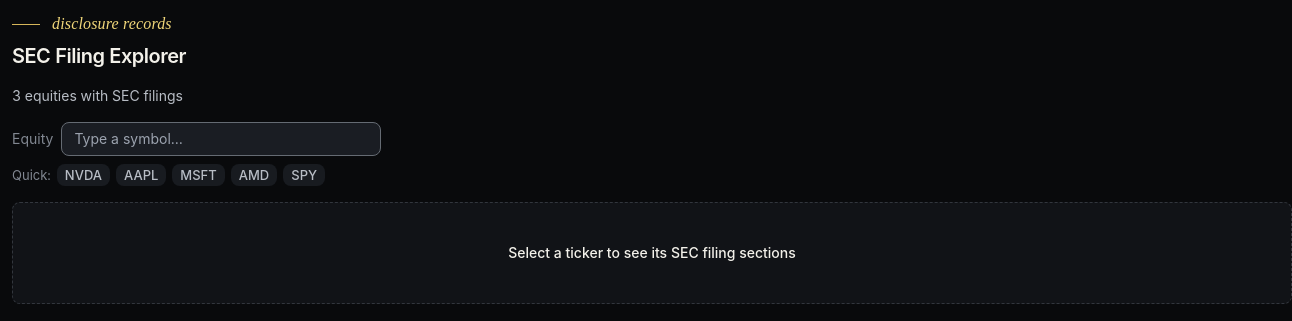
it: SecFilingExplorer › filters tickers on typing
Expected: the text "3 equities with SEC filings" is shown, [12,87,183,104]
Type "AA" into the dropdown at (221, 139), box [62,123,380,155]
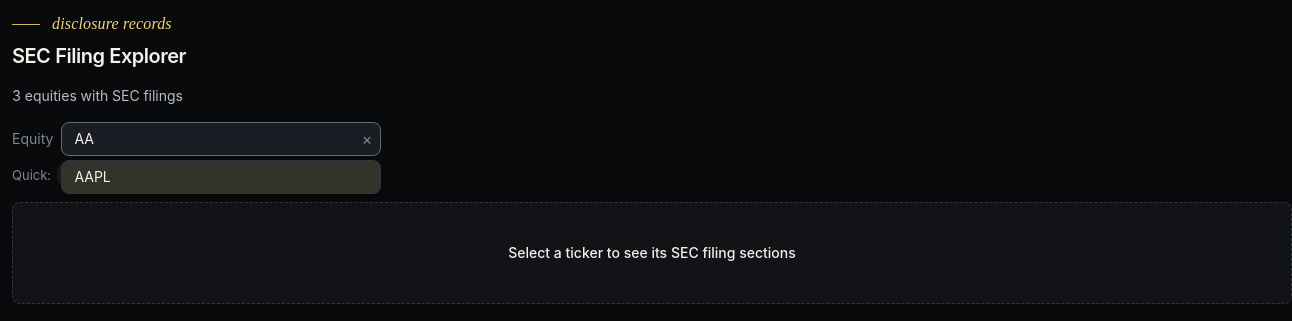
Expected: the option reads "AAPL", [62,161,380,193]
Expected: the number of options is 1, [62,161,380,193]
